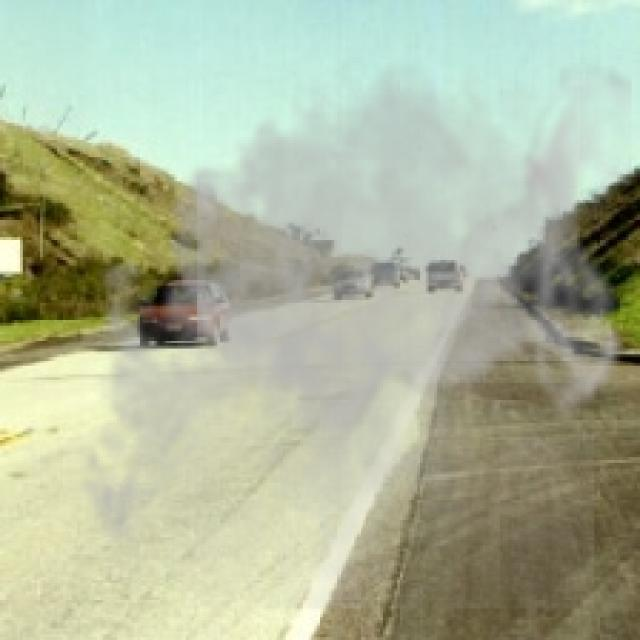Smoke: (63, 40, 632, 609)
